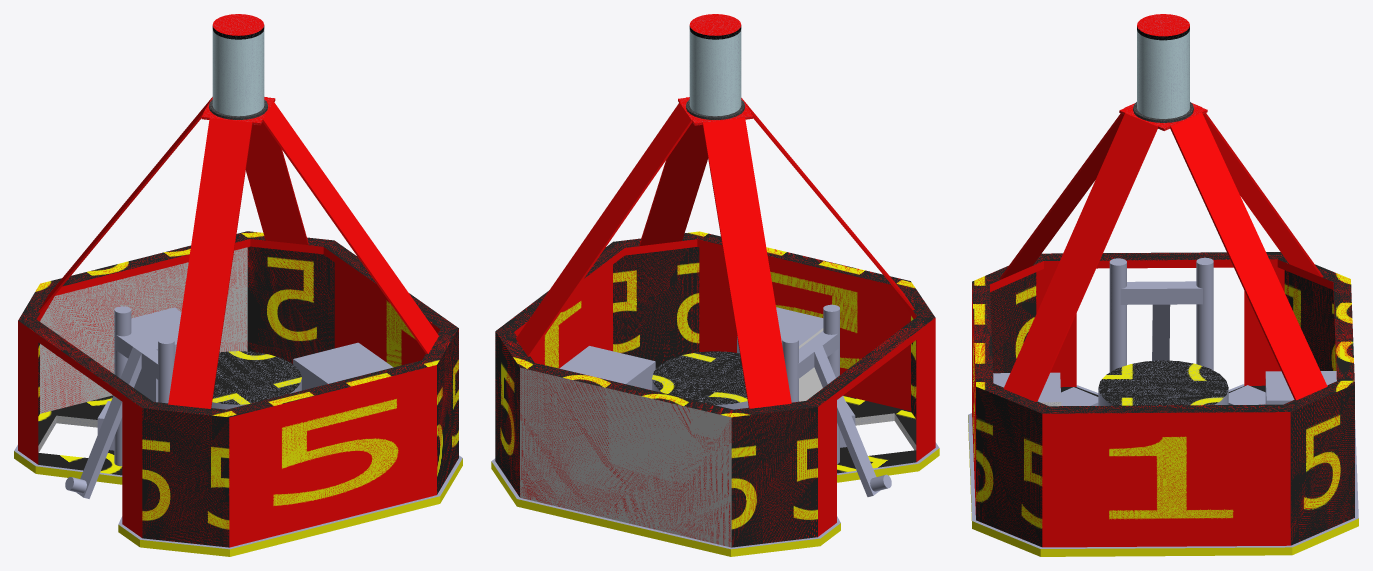
Rendered from rival_frame1.dae.
3 views of the same model, side by side, from view 1: azimuth 30°, elevation 25°; view 2: azimuth 150°, elevation 25°; view 3: azimuth 270°, elevation 25° (orthographic). The views are drawn at different scales.
Parts seen in each view (by area): view 1: SketchUp (×12), 支撑4, 支撑, 摄像头 (×2), 射门 (×3), 支撑2, 支撑3; view 2: SketchUp (×13), 支撑3, 支撑2, 摄像头 (×2), 支撑, 射门 (×3), 支撑4; view 3: SketchUp (×13), 支撑, 支撑2, 射门 (×2), 摄像头 (×2), 支撑4, 支撑3.
Boxes of the visible parts, x1,y1,x2,y2 form: SketchUp (×12): [14, 231, 462, 556]; 支撑4: [168, 118, 252, 408]; 支撑: [262, 101, 438, 353]; 摄像头 (×2): [212, 14, 264, 116]; 射门 (×3): [76, 306, 174, 498]; 支撑2: [246, 122, 308, 244]; 支撑3: [38, 97, 212, 312]; SketchUp (×13): [491, 231, 939, 556]; 支撑3: [702, 118, 791, 408]; 支撑2: [516, 102, 692, 356]; 摄像头 (×2): [689, 14, 741, 116]; 支撑: [639, 97, 707, 245]; 射门 (×3): [782, 304, 880, 496]; 支撑4: [741, 98, 914, 310]; SketchUp (×13): [968, 252, 1358, 556]; 支撑: [1003, 113, 1157, 401]; 支撑2: [1170, 113, 1327, 400]; 射门 (×2): [1109, 257, 1213, 372]; 摄像头 (×2): [1137, 14, 1189, 118]; 支撑4: [999, 113, 1123, 279]; 支撑3: [1203, 113, 1323, 277].
Bounding box in the file's own units: 18.17 × 17.72 × 22.48.
